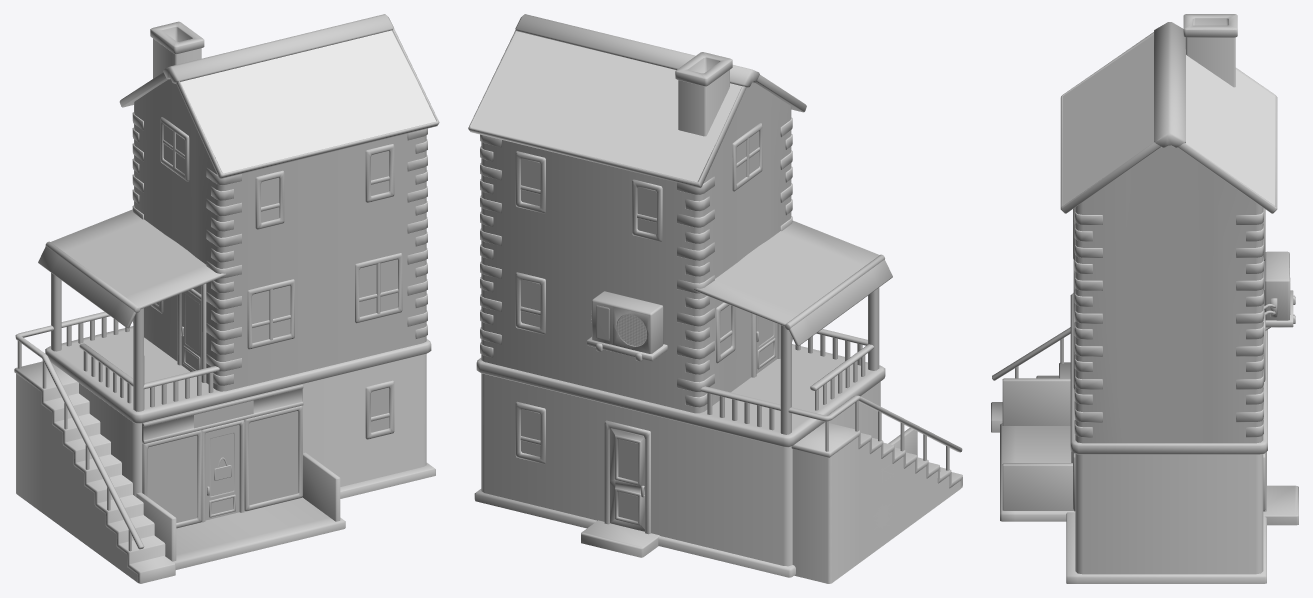
The model's file is cafe_01.fbx.
The picture shows the model from 3 angles, left to right: view 1: azimuth 30°, elevation 25°; view 2: azimuth 150°, elevation 25°; view 3: azimuth 270°, elevation 25°; orthographic projection. The views are drawn at different scales.
Visible parts, largest first — view 1: cafe_01, cafe_bricks_01, cafe_roof_01, cafe_texture_01; view 2: cafe_01, cafe_bricks_01, cafe_roof_01, cafe_wire_01; view 3: cafe_01, cafe_bricks_01, cafe_roof_01.
Boxes of the visible parts, box(x1,y1,x2,y2) form: cafe_01: box(14, 14, 439, 583); cafe_bricks_01: box(16, 38, 426, 582); cafe_roof_01: box(180, 30, 435, 173); cafe_texture_01: box(148, 400, 296, 493); cafe_01: box(468, 14, 962, 577); cafe_bricks_01: box(481, 70, 960, 583); cafe_roof_01: box(471, 31, 741, 182); cafe_wire_01: box(617, 314, 646, 346); cafe_01: box(991, 14, 1298, 583); cafe_bricks_01: box(1075, 37, 1263, 574); cafe_roof_01: box(1062, 35, 1275, 205).
Size of the model in its own units: 5.28 by 6.67 by 3.99.
